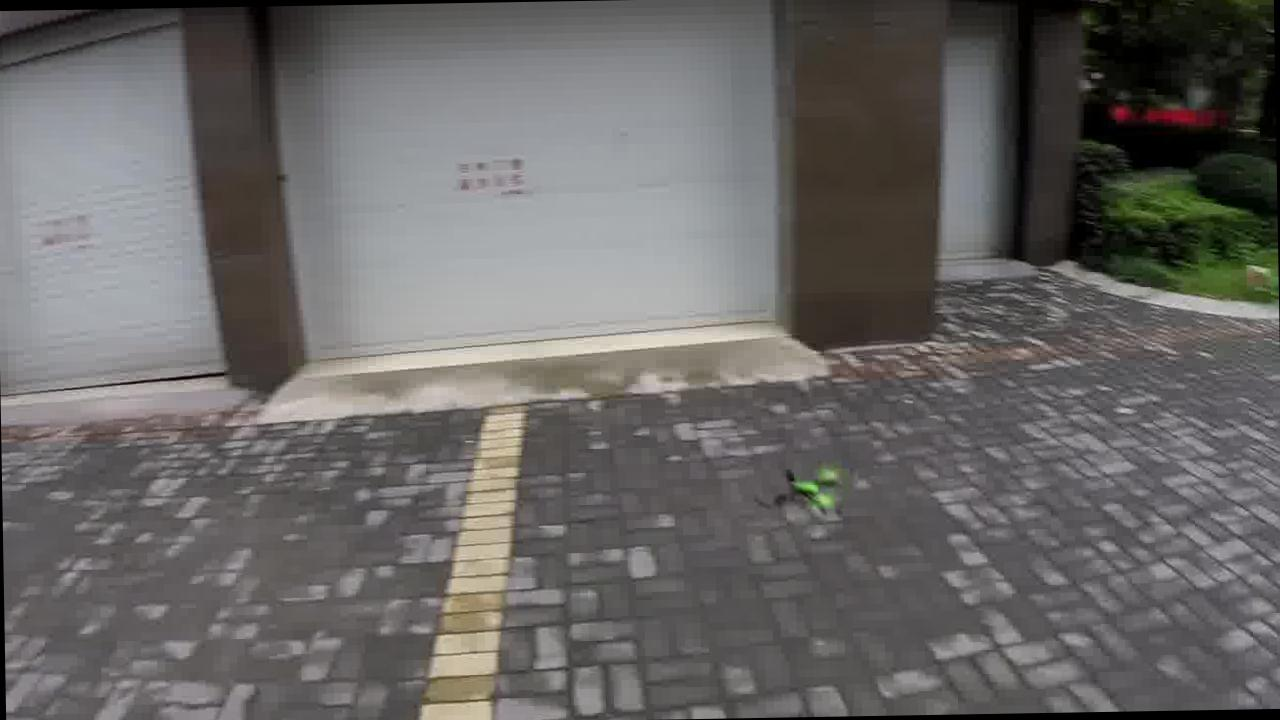drone: (756, 440, 860, 535)
